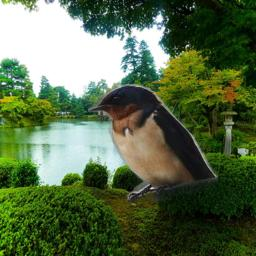Swallow: (88, 84, 218, 202)
